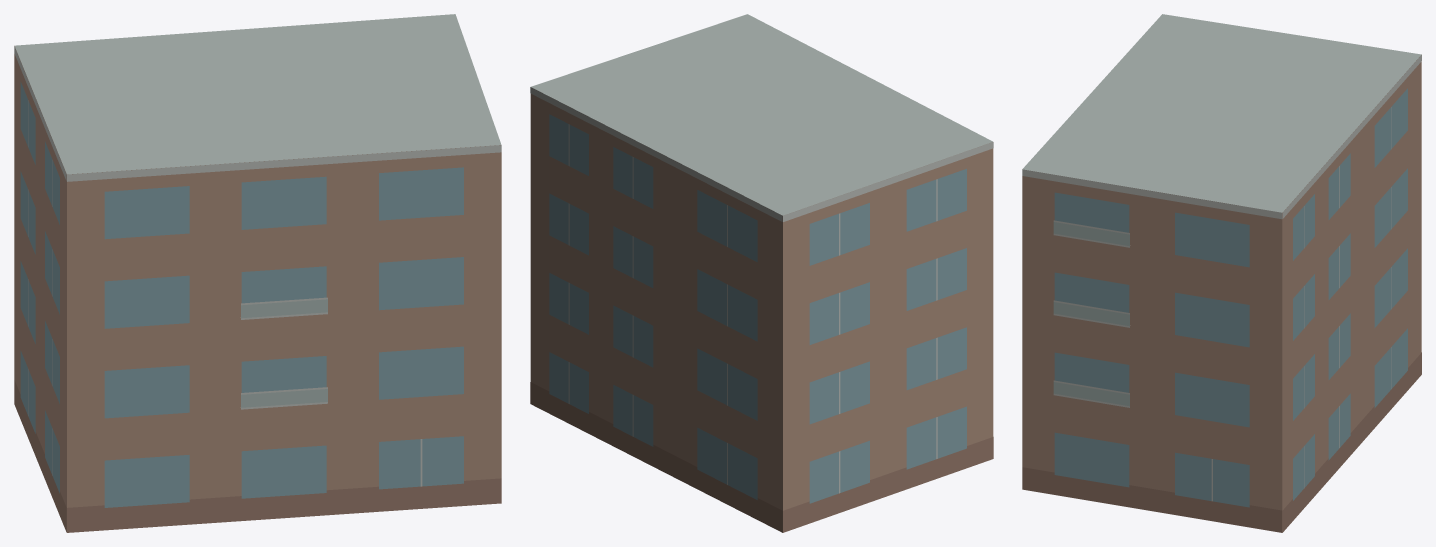
The model's file is survey-upis-32538478.glb.
The picture shows the model from 3 angles, left to right: view 1: azimuth 30°, elevation 25°; view 2: azimuth 150°, elevation 25°; view 3: azimuth 270°, elevation 25°; orthographic projection. The views are drawn at different scales.
Visible parts, largest first — view 1: survey-upis-32538478.tmp; view 2: survey-upis-32538478.tmp; view 3: survey-upis-32538478.tmp.
Part boxes in pixels (x1,y1,x2,y2): survey-upis-32538478.tmp: [14, 14, 501, 532]; survey-upis-32538478.tmp: [530, 14, 993, 532]; survey-upis-32538478.tmp: [1022, 14, 1421, 532].
Size of the model in its own units: 15.72 by 11.8 by 13.36.
